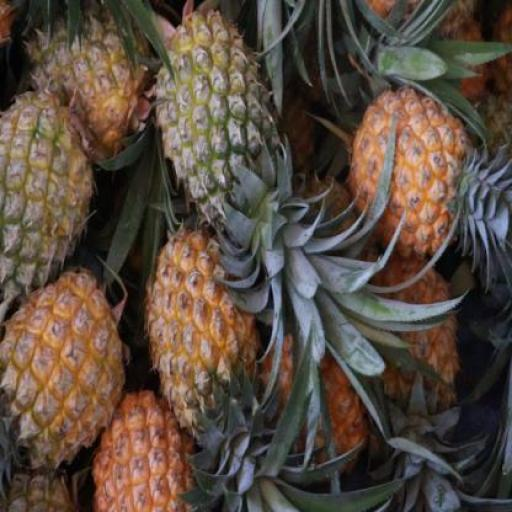------------------------------: (159, 6, 291, 228), (32, 0, 153, 158), (0, 95, 97, 287)
Pineapple - v8 v1: (4, 269, 129, 467), (147, 234, 264, 432), (350, 85, 471, 269), (88, 391, 200, 512)
